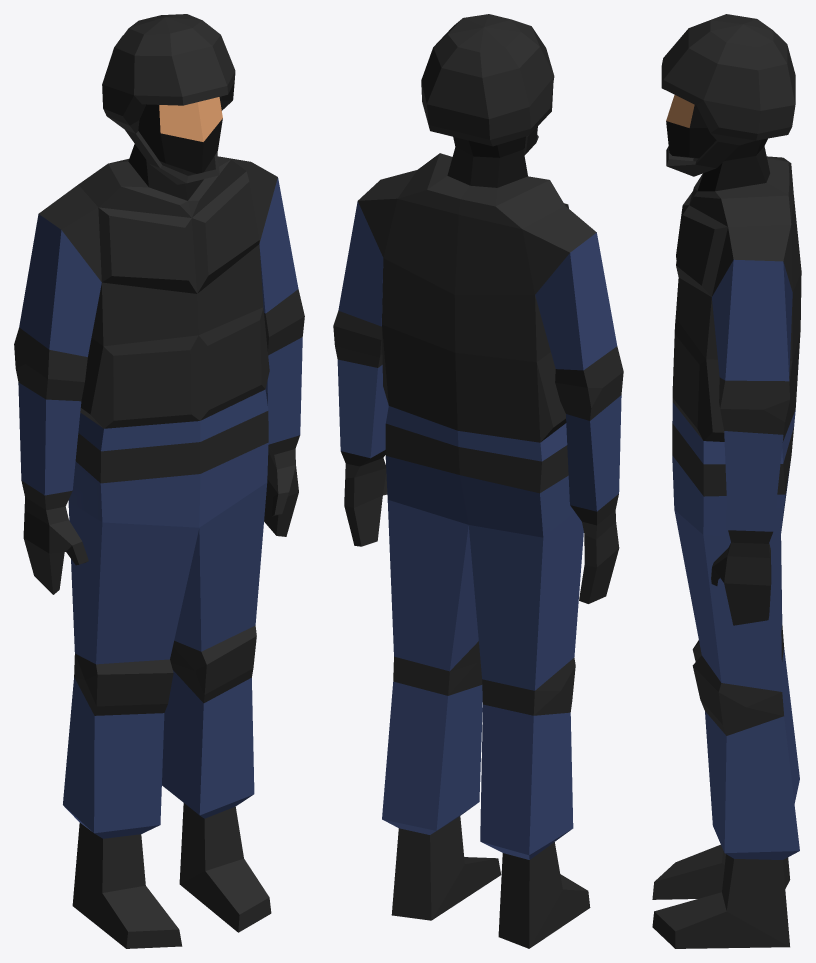
The model's file is people_man-swat.fbx.
3 renders of one model, left to right at view 1: azimuth 30°, elevation 25°; view 2: azimuth 150°, elevation 25°; view 3: azimuth 270°, elevation 25°, orthographic.
Parts seen in each view (by area): view 1: people_man_swat; view 2: people_man_swat; view 3: people_man_swat.
Boxes of the visible parts, x1,y1,x2,y2 form: people_man_swat: (14,14,304,948); people_man_swat: (333,14,623,948); people_man_swat: (652,14,801,948).
Bounding box in the file's own units: 60.76 × 200 × 30.39.
